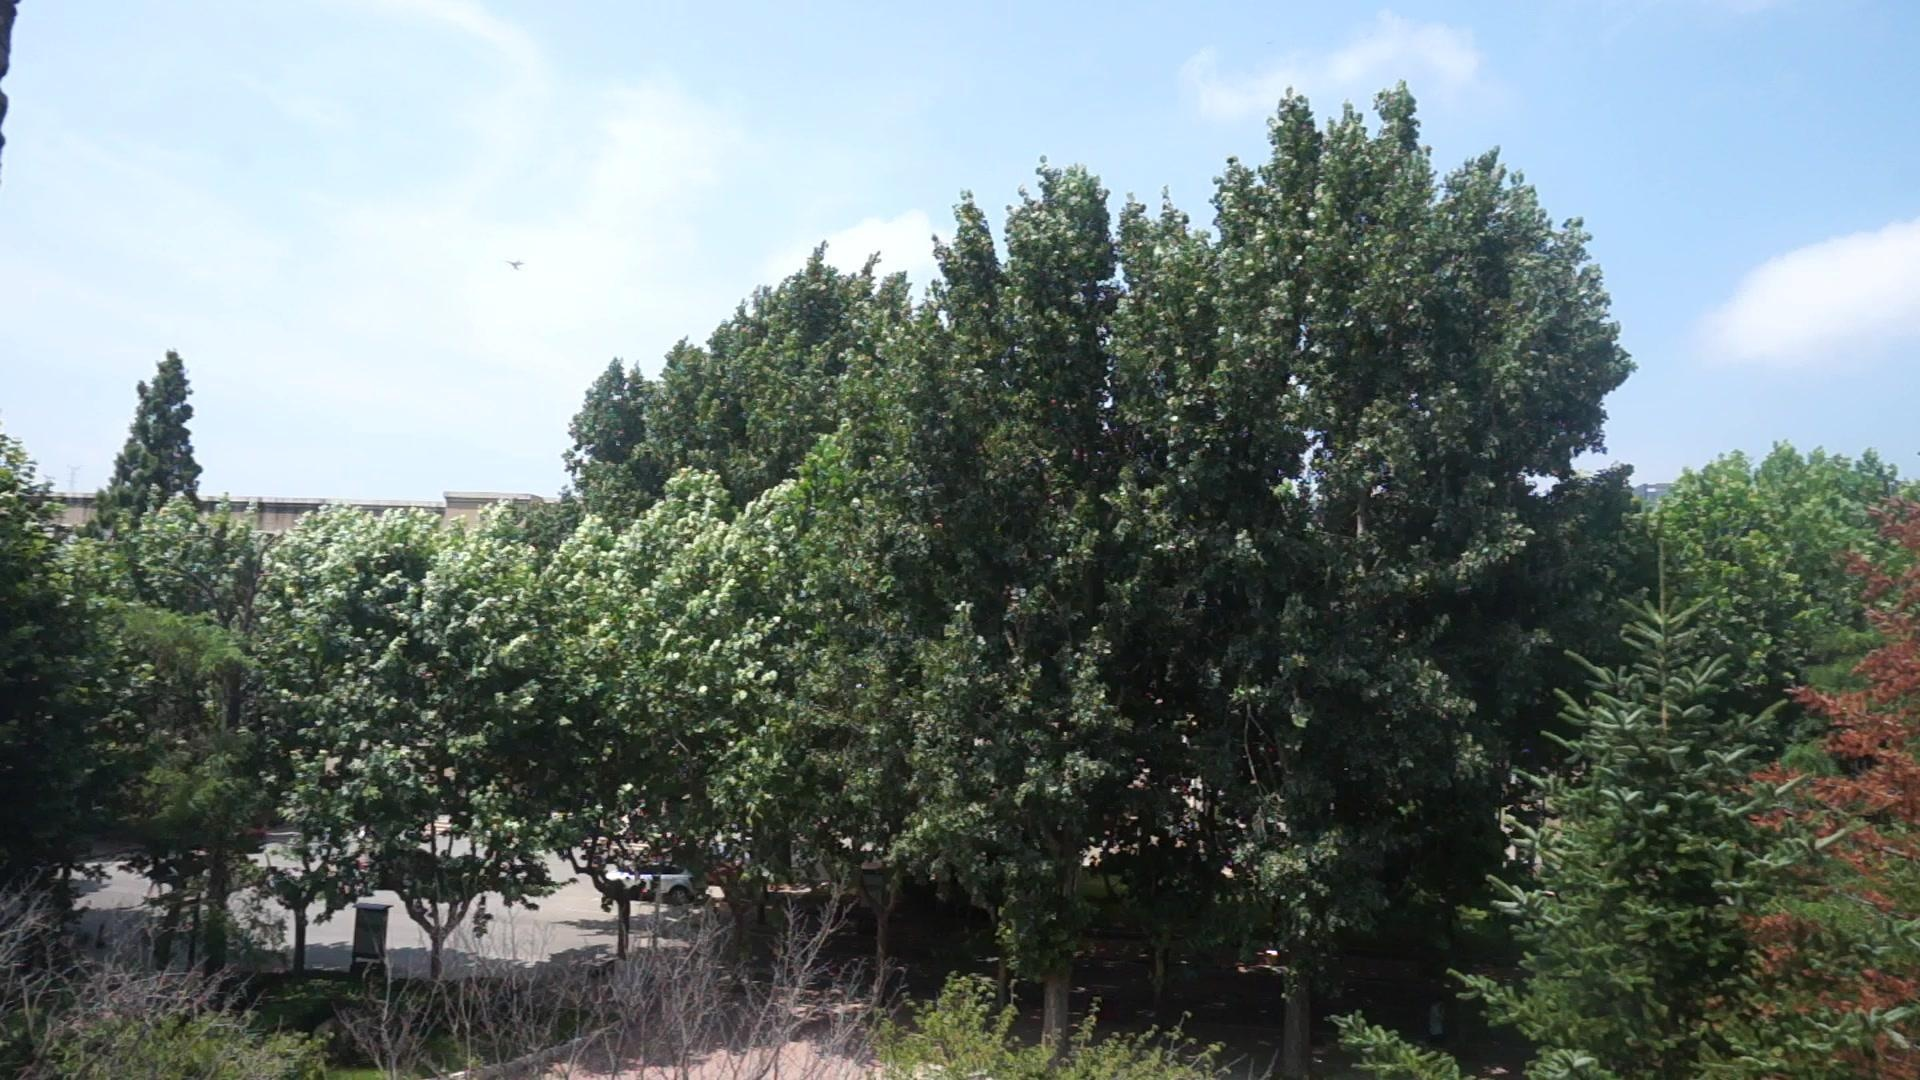UAV: (508, 261, 525, 270)
